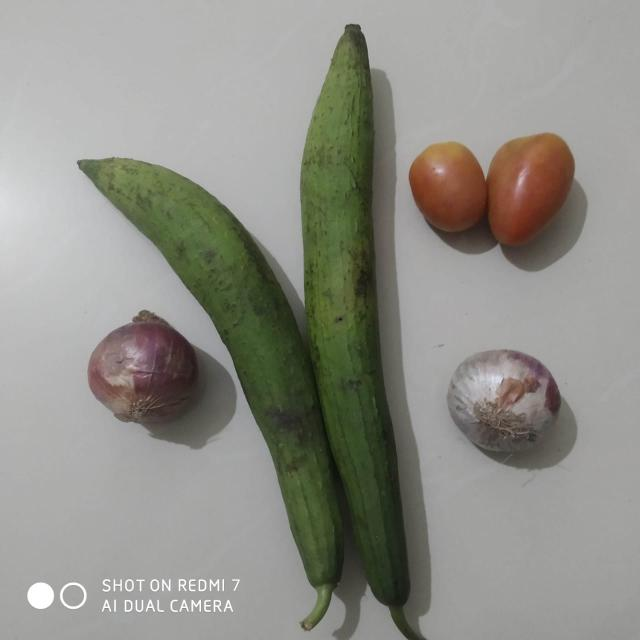Organik: (255, 0, 415, 628), (441, 337, 585, 473), (54, 305, 207, 432), (489, 132, 575, 252), (407, 136, 492, 242)
